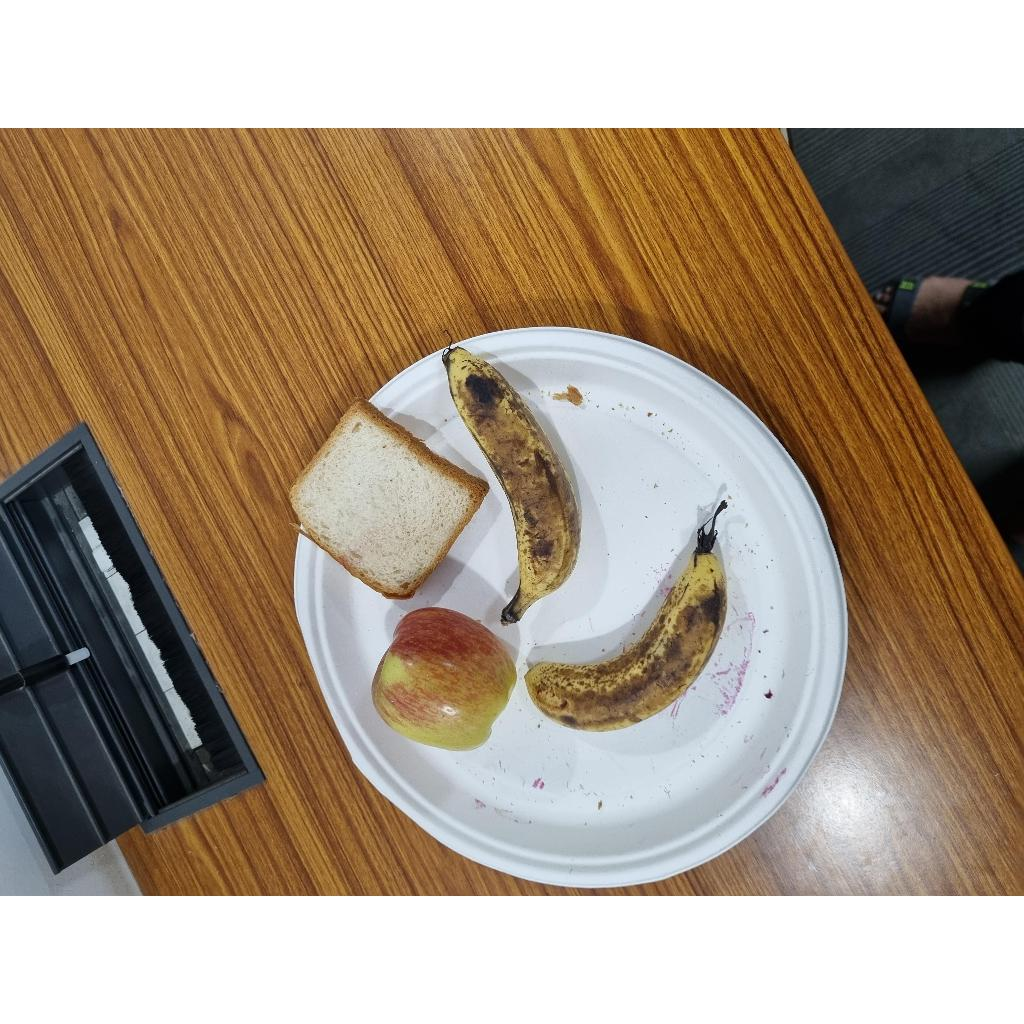apple: (370, 614, 509, 764)
banana: (442, 347, 580, 625), (525, 549, 727, 731)
